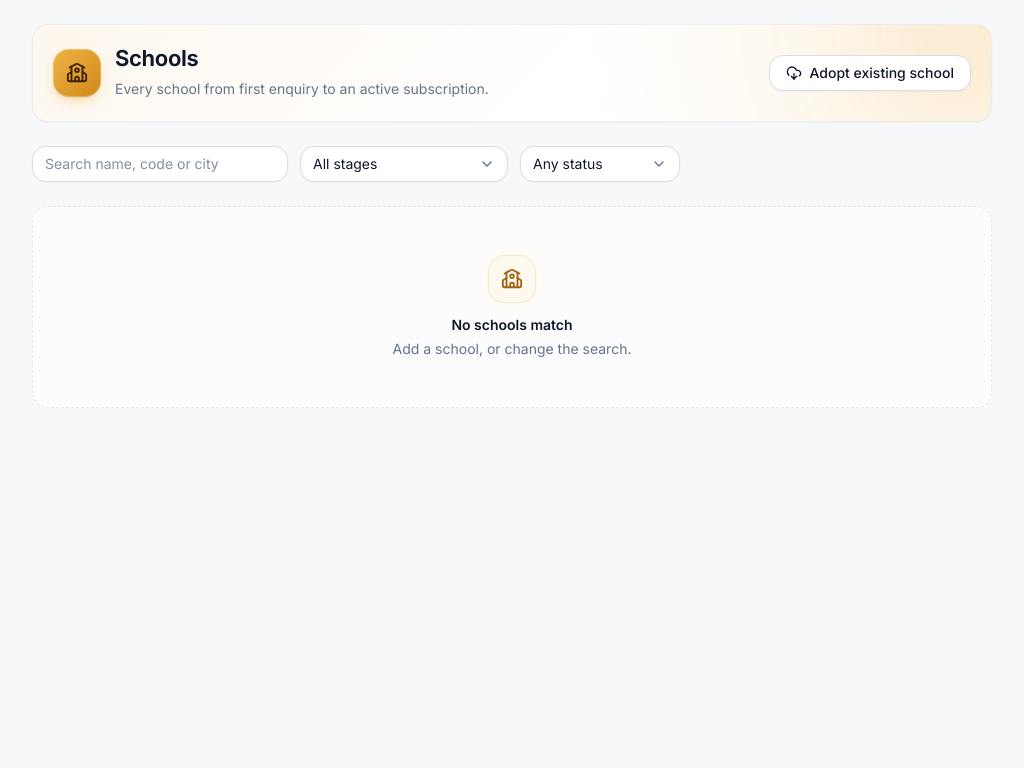
it: Adopting an existing school › says so when there is nothing left to adopt
Click the button "Adopt existing school". click: click(870, 73)
box: [768,55,971,91]
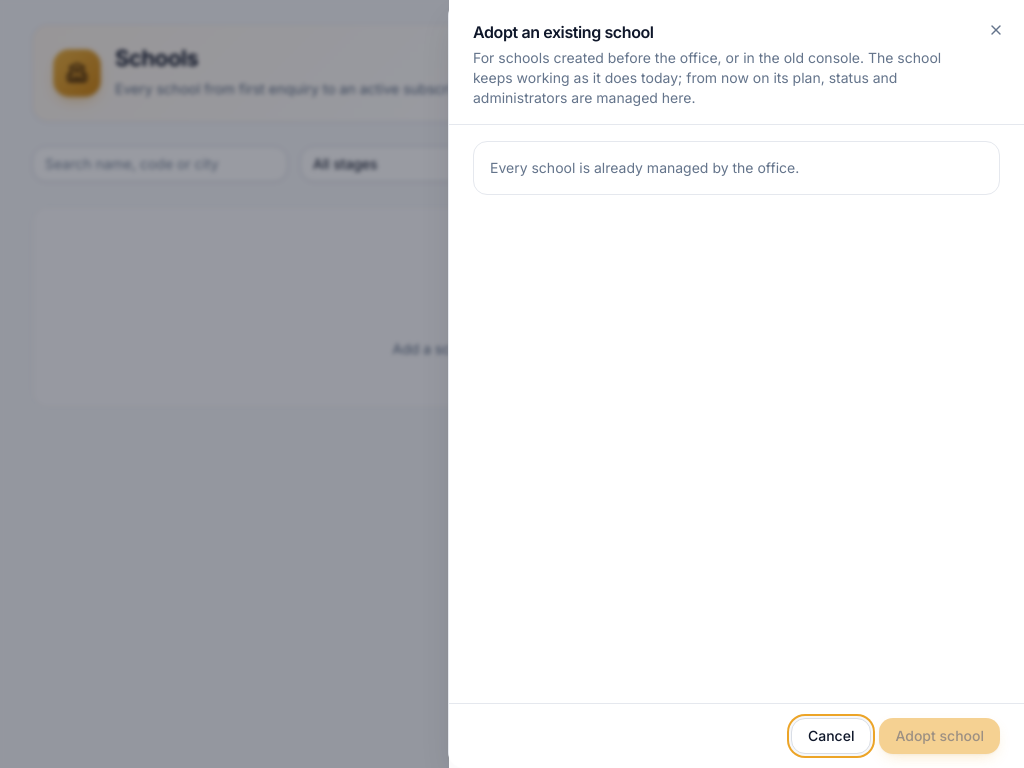
Expected: the text "Every school is already managed by the office." is shown, [473,141,1000,195]
